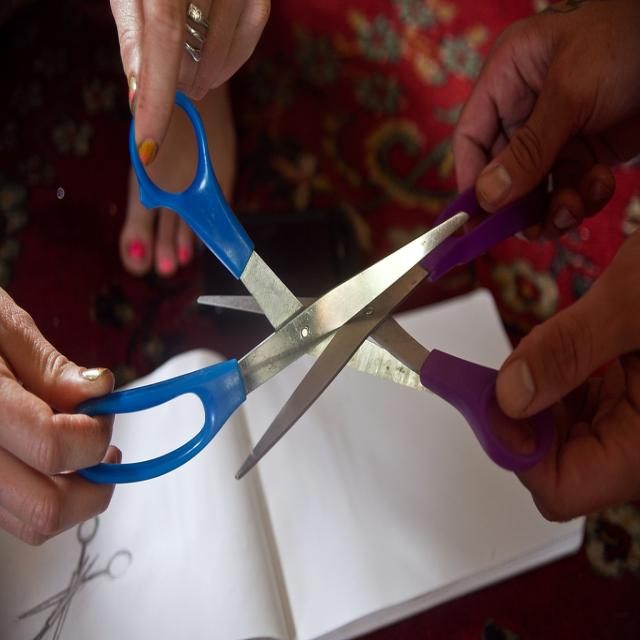scissors: (56, 78, 468, 511), (198, 94, 594, 505)
